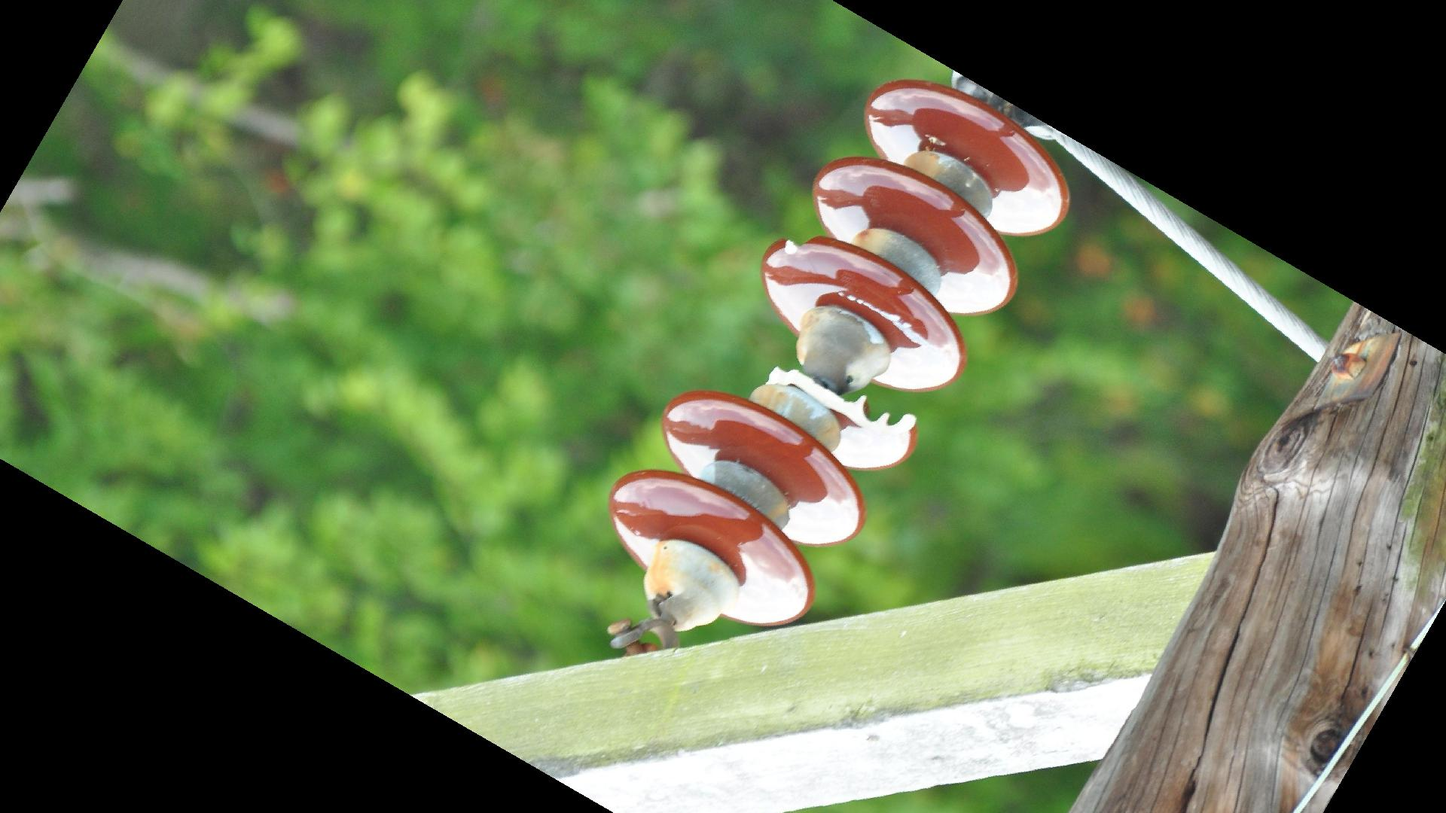insulator: (603, 72, 1078, 638)
insulator_breakage: (754, 360, 922, 448)
